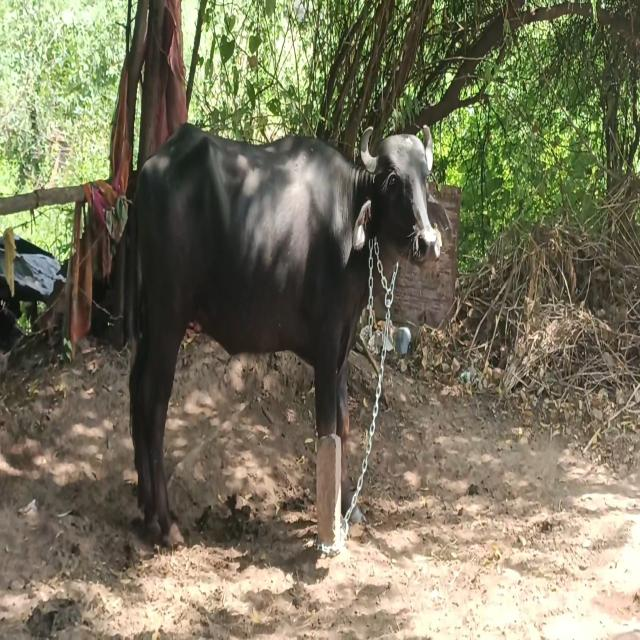Breed: (101, 115, 448, 528)
